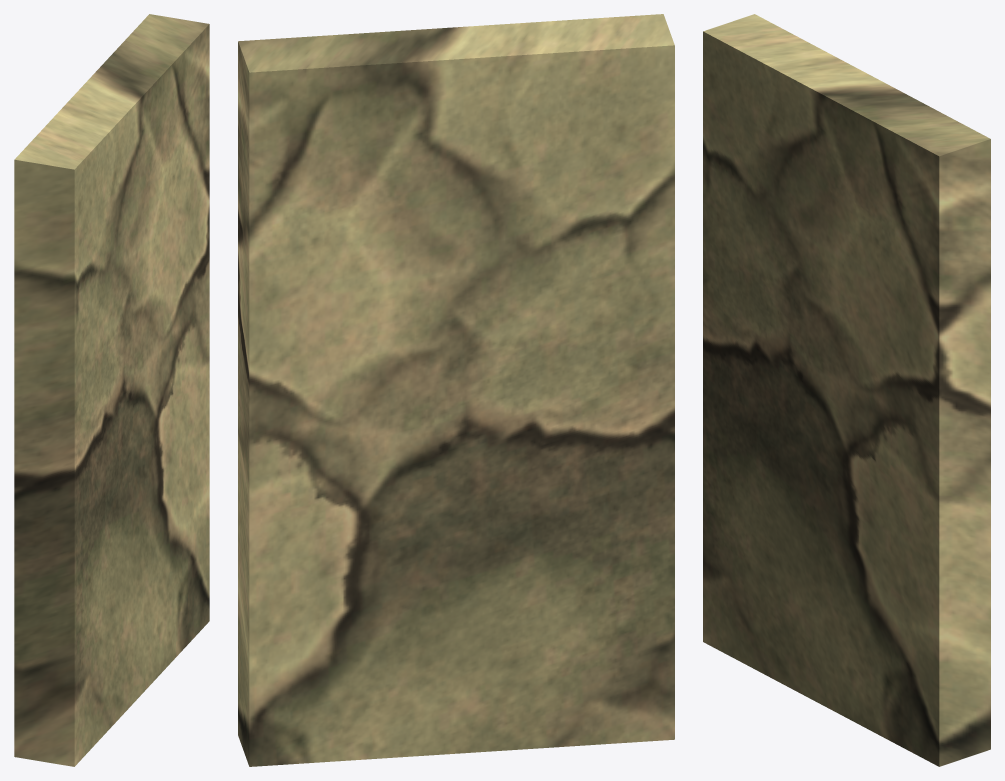
Rendered from piedra.fbx.
The picture shows the model from 3 angles, left to right: view 1: azimuth 30°, elevation 25°; view 2: azimuth 150°, elevation 25°; view 3: azimuth 270°, elevation 25°; orthographic projection. The views are drawn at different scales.
Parts seen in each view (by area): view 1: pCube56; view 2: pCube56; view 3: pCube56.
Boxes of the visible parts, x1,y1,x2,y2 form: pCube56: (14, 14, 209, 766); pCube56: (238, 14, 674, 766); pCube56: (703, 14, 990, 766).
Size of the model in its own units: 2953 by 5906 by 2522.
1 material, 1 textured.
